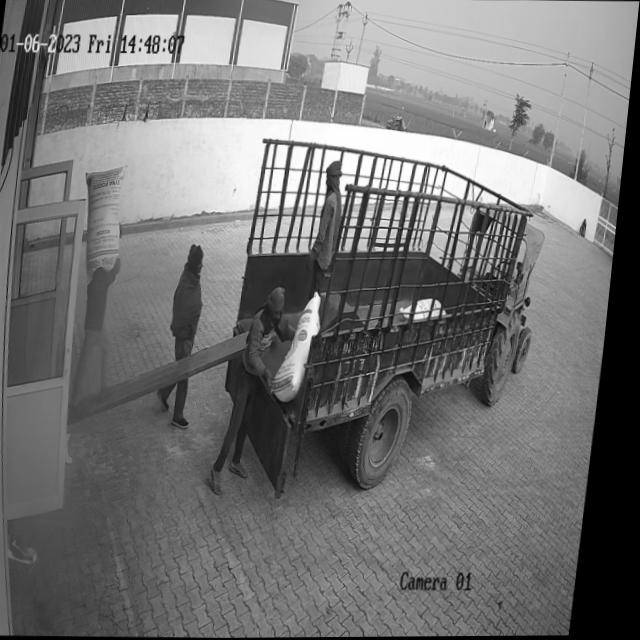sack: (77, 166, 131, 284), (277, 290, 330, 405)
